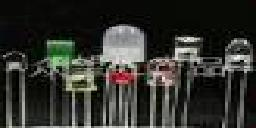LED: (101, 22, 148, 128), (175, 31, 206, 128), (222, 35, 251, 128)
